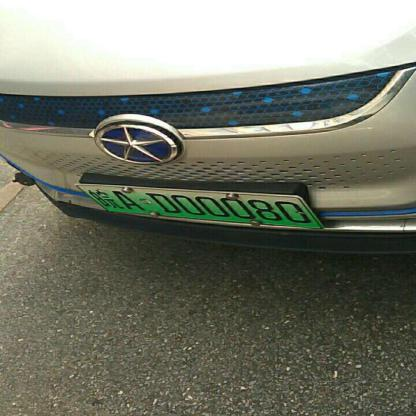lp: (77, 185, 319, 228)
